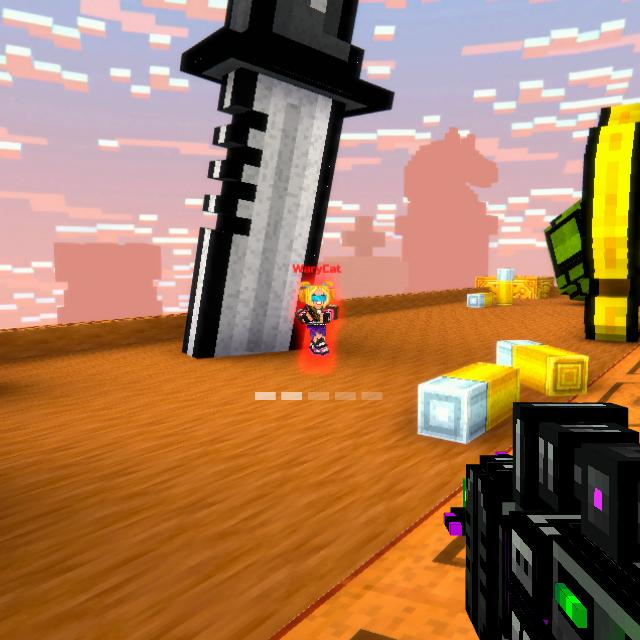Enemy: (295, 286, 339, 356)
